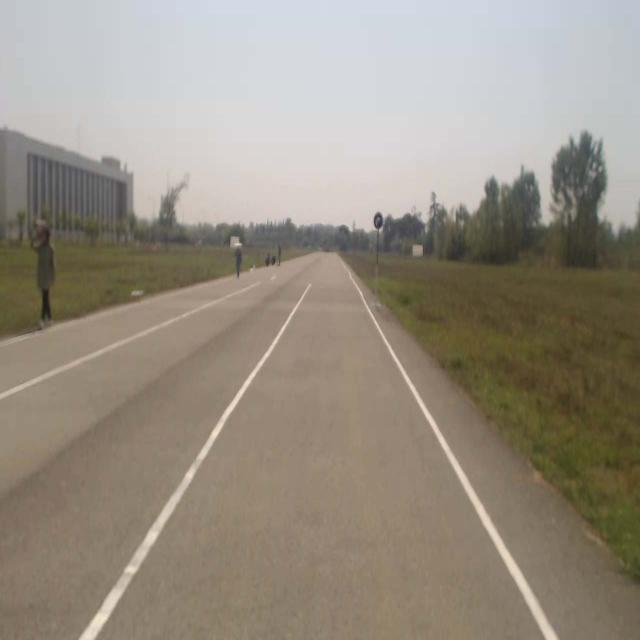sag: (373, 212, 382, 228)
